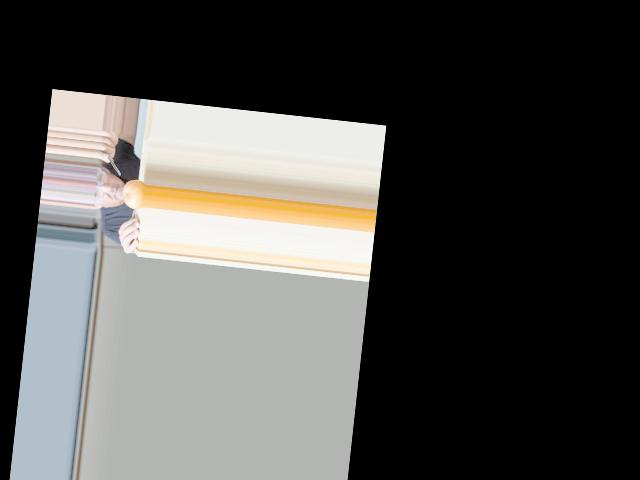onion: (120, 177, 146, 210)
